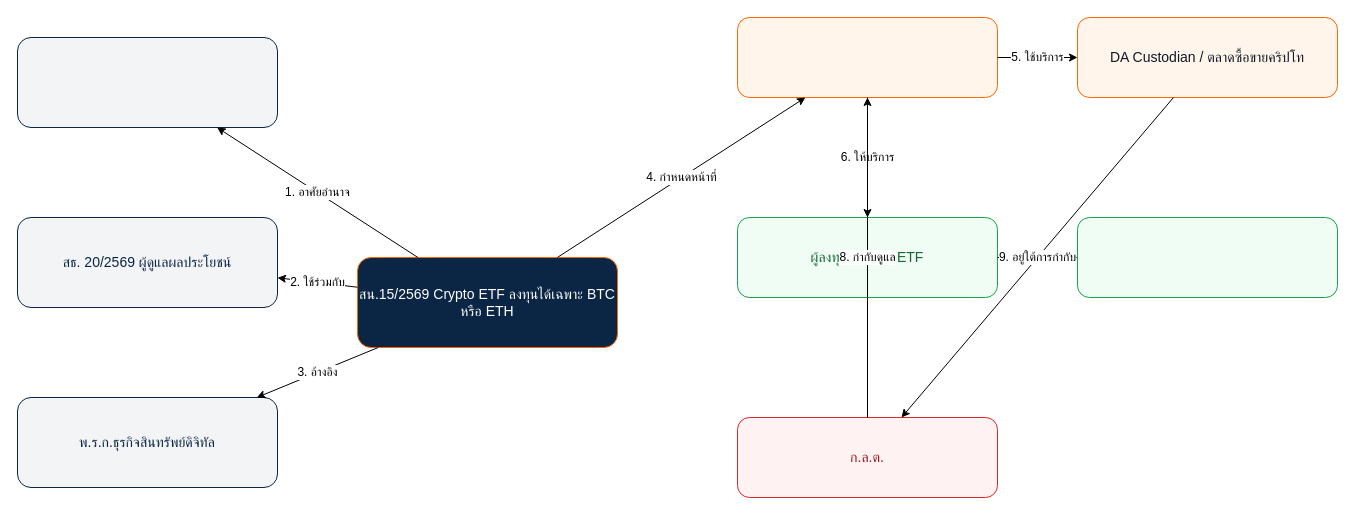
This 1355x515 diagram has some shape labels left out. The centre of each missing label's shape, as x and y in pixels:
"ทน. 20/2569 การลงทุนของกองทุน" belongs at (147,82).
"นักลงทุนทั่วไป" belongs at (1207,257).
"บลจ." belongs at (867,57).
